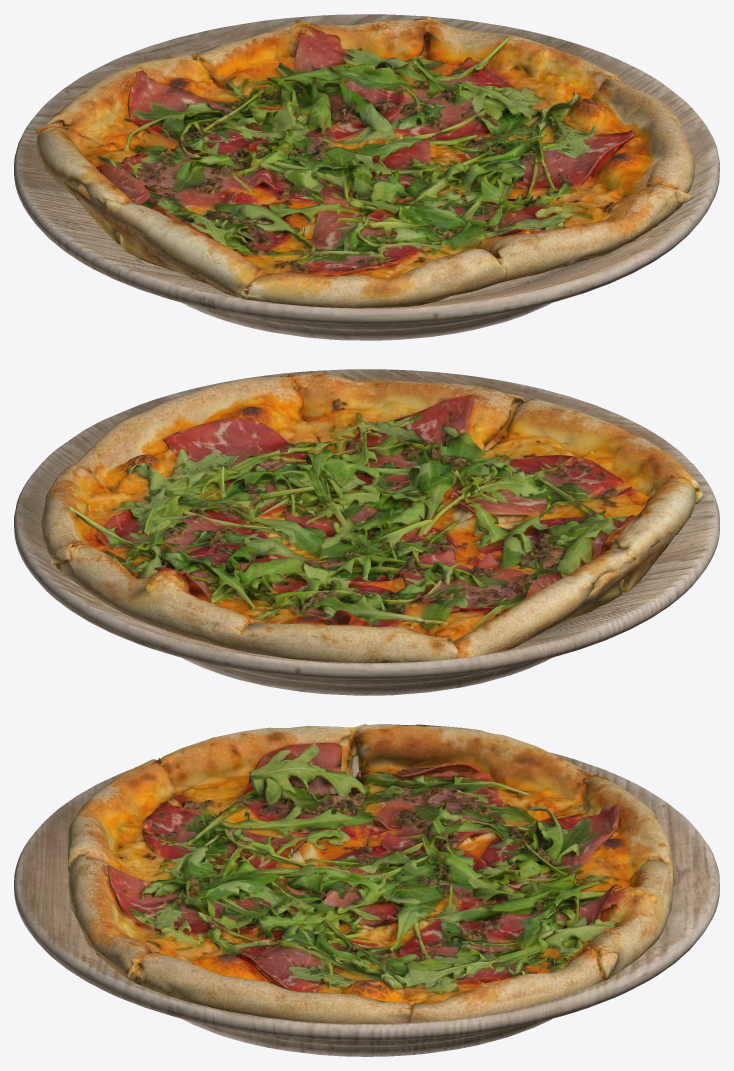
Rendered from pizza-de-forno.glb.
3 renders of one model, top to bottom at view 1: azimuth 30°, elevation 25°; view 2: azimuth 150°, elevation 25°; view 3: azimuth 270°, elevation 25°, orthographic.
Visible parts, largest first — view 1: pizza_pizza_0, Tarelka001__0; view 2: pizza_pizza_0, Tarelka001__0; view 3: pizza_pizza_0, Tarelka001__0.
Boxes of the visible parts, box(x1,y1,x2,y2) form: pizza_pizza_0: box(36, 16, 695, 308); Tarelka001__0: box(14, 14, 719, 340); pizza_pizza_0: box(41, 372, 703, 663); Tarelka001__0: box(14, 369, 719, 695); pizza_pizza_0: box(67, 724, 673, 1023); Tarelka001__0: box(14, 752, 719, 1056).
Size of the model in its own units: 0.35 by 0.0597 by 0.35.
Materials: 2 (2 with a texture image).
